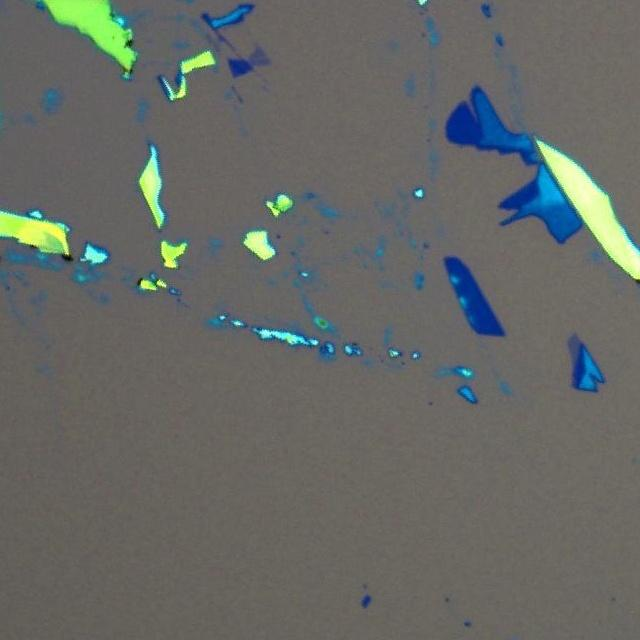monolayer-eWW4: (246, 41, 272, 68), (566, 330, 580, 364)
